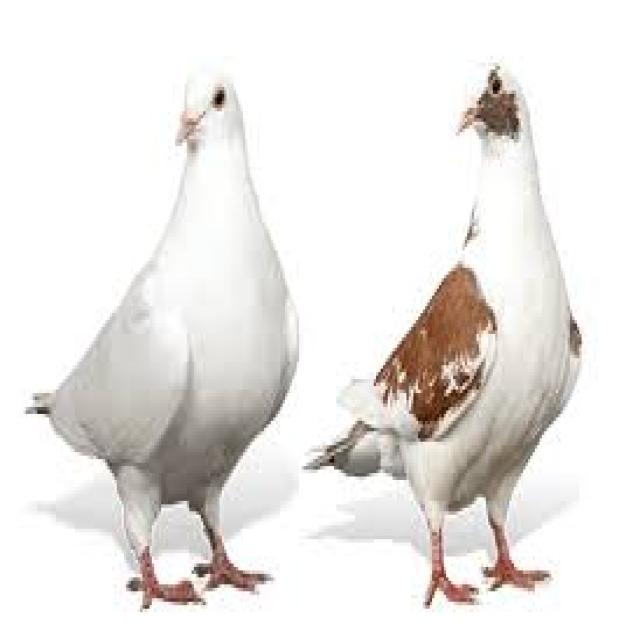pigeon: (318, 41, 626, 619), (18, 30, 300, 628)
